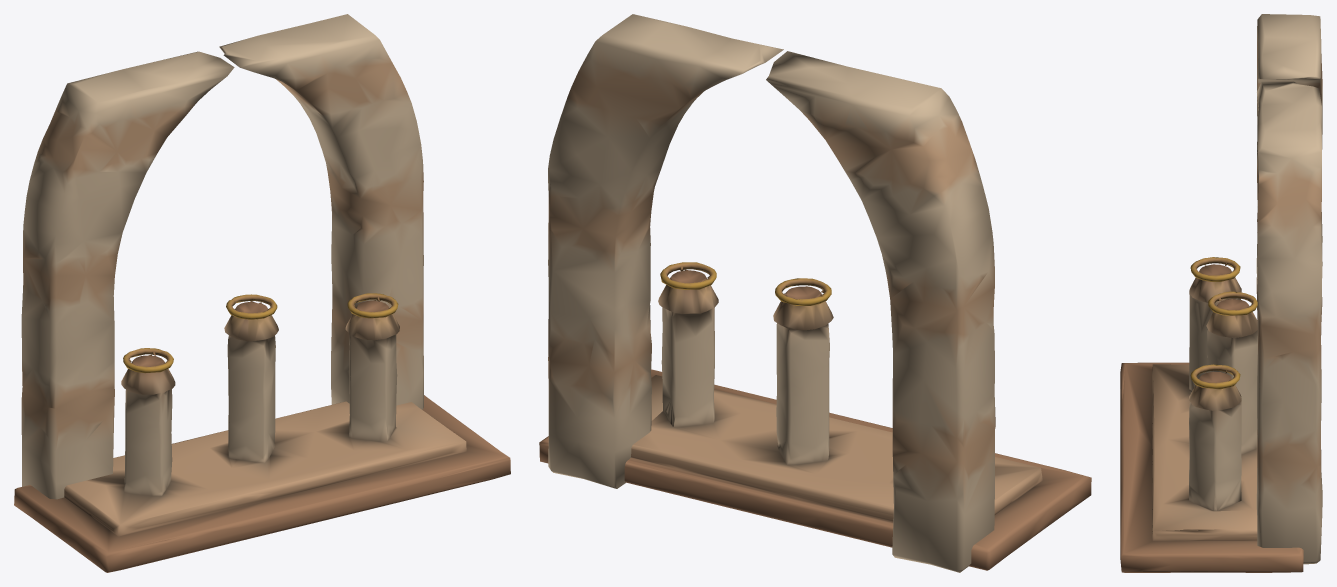
The model's file is portao_vael.glb.
3 views of the same model, side by side, from view 1: azimuth 30°, elevation 25°; view 2: azimuth 150°, elevation 25°; view 3: azimuth 270°, elevation 25° (orthographic). The views are drawn at different scales.
Parts seen in each view (by area): view 1: Arco, Portao; view 2: Arco, Portao; view 3: Portao, Arco.
Boxes of the visible parts, x1,y1,x2,y2 form: Arco: (21, 14, 423, 499); Portao: (14, 293, 510, 572); Arco: (548, 14, 995, 572); Portao: (539, 262, 1091, 570); Portao: (1120, 257, 1303, 572); Arco: (1256, 14, 1322, 564).
Bounding box in the file's own units: 13 × 12.45 × 5.74.
